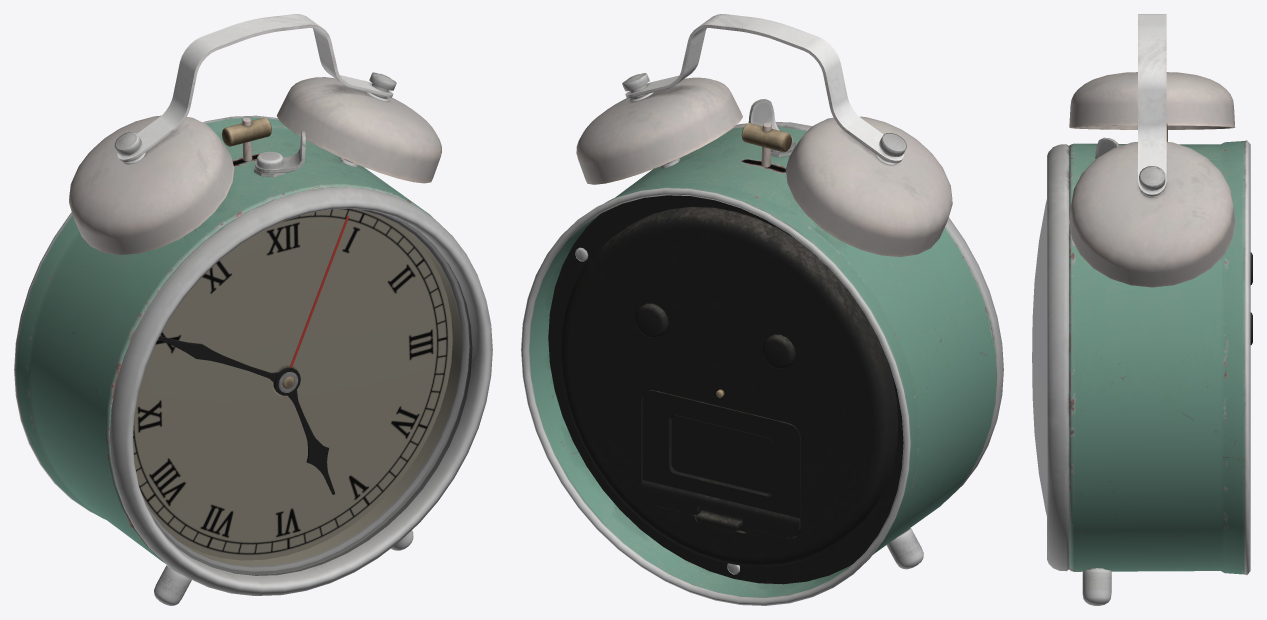
The model's file is clock.obj.
3 renders of one model, left to right at view 1: azimuth 30°, elevation 25°; view 2: azimuth 150°, elevation 25°; view 3: azimuth 270°, elevation 25°, orthographic. The views are drawn at different scales.
Parts seen in each view (by area): view 1: alarm_clock_01_Cylinder.030, alarm_clock_01_glass_Cylinder.001, alarm_clock_01_hour_hand_Plane.012, alarm_clock_01_minute_hand_Plane.013; view 2: alarm_clock_01_Cylinder.030; view 3: alarm_clock_01_Cylinder.030, alarm_clock_01_glass_Cylinder.001.
Boxes of the visible parts, bbox=[...] form: alarm_clock_01_Cylinder.030: bbox=[14, 14, 492, 605]; alarm_clock_01_glass_Cylinder.001: bbox=[133, 209, 472, 575]; alarm_clock_01_hour_hand_Plane.012: bbox=[274, 368, 335, 494]; alarm_clock_01_minute_hand_Plane.013: bbox=[158, 336, 293, 391]; alarm_clock_01_Cylinder.030: bbox=[521, 14, 1003, 605]; alarm_clock_01_Cylinder.030: bbox=[1047, 14, 1252, 605]; alarm_clock_01_glass_Cylinder.001: bbox=[1032, 200, 1046, 515].
Bounding box in the file's own units: 0.1317 × 0.1742 × 0.0667.
Materials: 2 (1 with a texture image).
